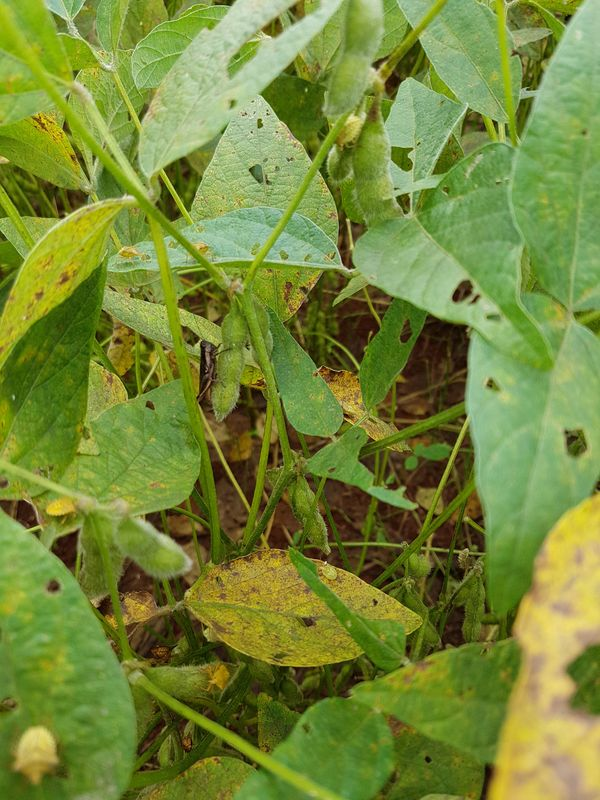Euschistus_heros_ninfa: (4, 715, 74, 793), (319, 107, 374, 160)
Rhammatocerus_schistocercoides: (177, 317, 240, 428)
